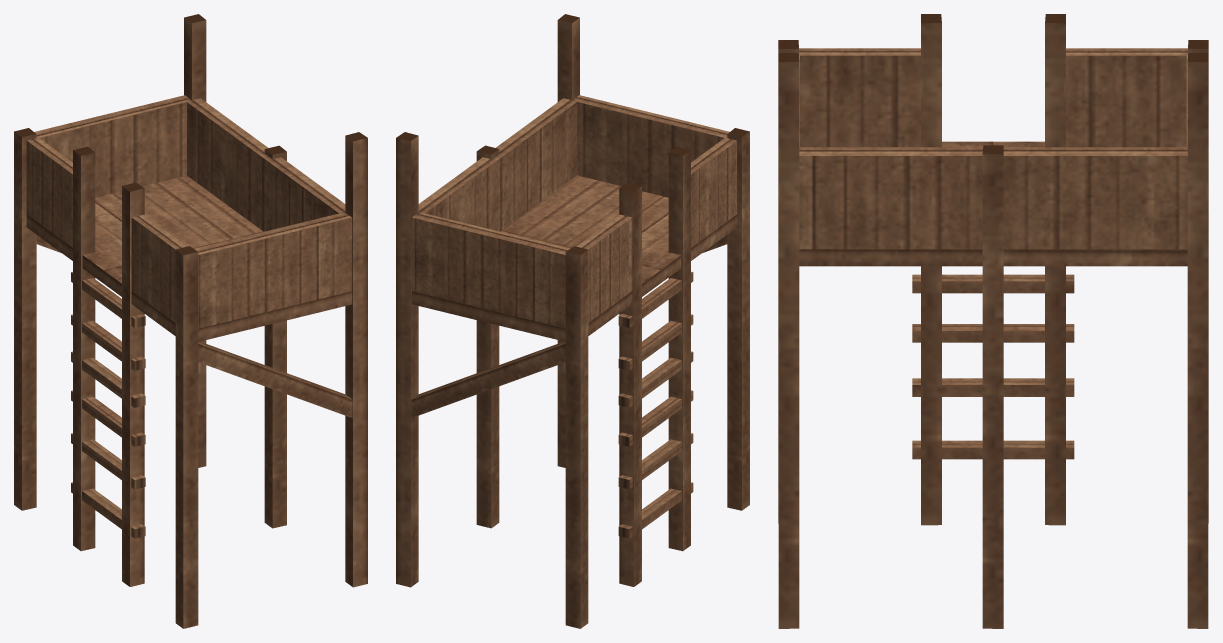
Rendered from watchtower_1.fbx.
The picture shows the model from 3 angles, left to right: view 1: azimuth 30°, elevation 25°; view 2: azimuth 150°, elevation 25°; view 3: azimuth 270°, elevation 25°; orthographic projection. The views are drawn at different scales.
Visible parts, largest first — view 1: roman_watchtower_1_LOD0; view 2: roman_watchtower_1_LOD0; view 3: roman_watchtower_1_LOD0.
Part boxes in pixels (bbox=[...]): roman_watchtower_1_LOD0: bbox=[14, 14, 367, 628]; roman_watchtower_1_LOD0: bbox=[396, 14, 749, 628]; roman_watchtower_1_LOD0: bbox=[778, 14, 1208, 628].
Size of what is drawn, in the model's own units: 346 by 502 by 217.
